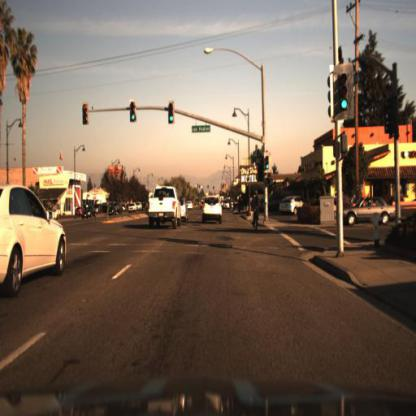biker: (252, 189, 261, 233)
car: (1, 182, 68, 294), (339, 192, 402, 228), (146, 186, 183, 231), (200, 195, 223, 229), (278, 194, 307, 218), (176, 197, 193, 228), (107, 202, 123, 219), (127, 201, 137, 216)
trafficLight-Green: (128, 97, 140, 126), (263, 152, 274, 175), (167, 102, 176, 128)
trafficLight-RedLeft: (84, 102, 91, 129)
